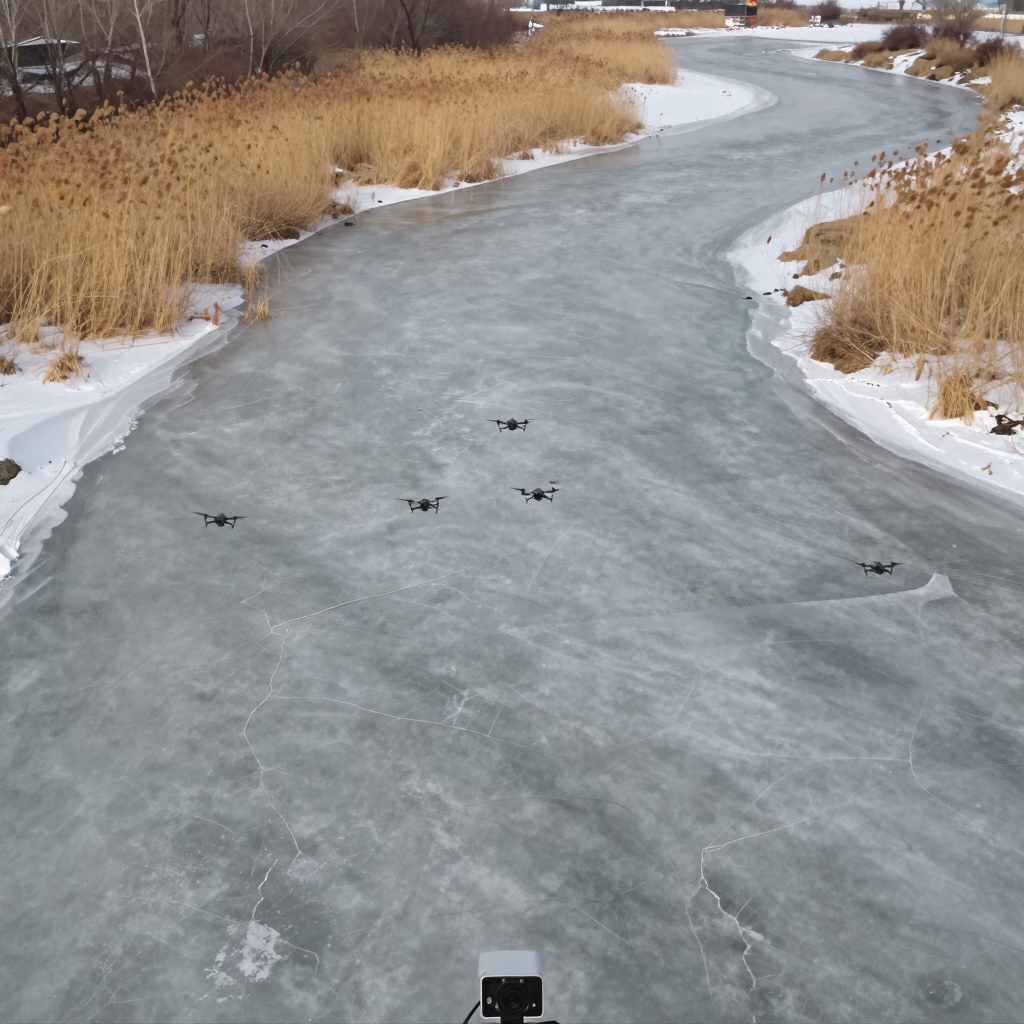drone: (509, 484, 561, 504), (191, 512, 249, 529), (855, 561, 903, 577), (486, 418, 535, 433), (409, 496, 449, 514)
